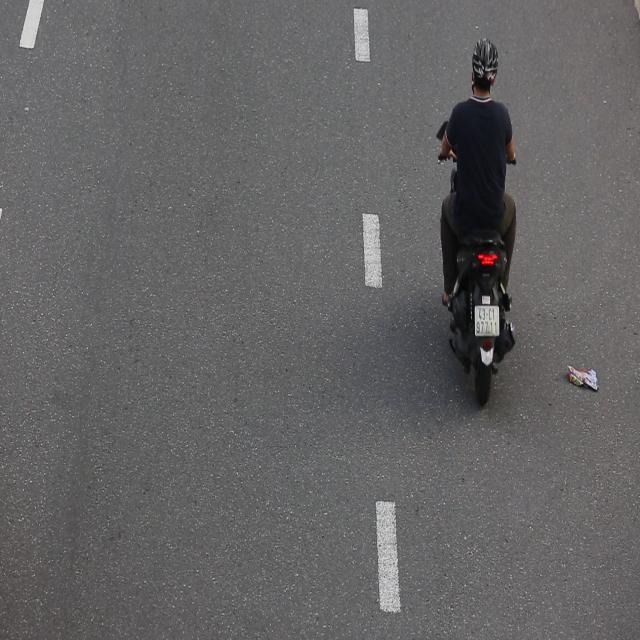motorbike: (435, 29, 525, 414)
